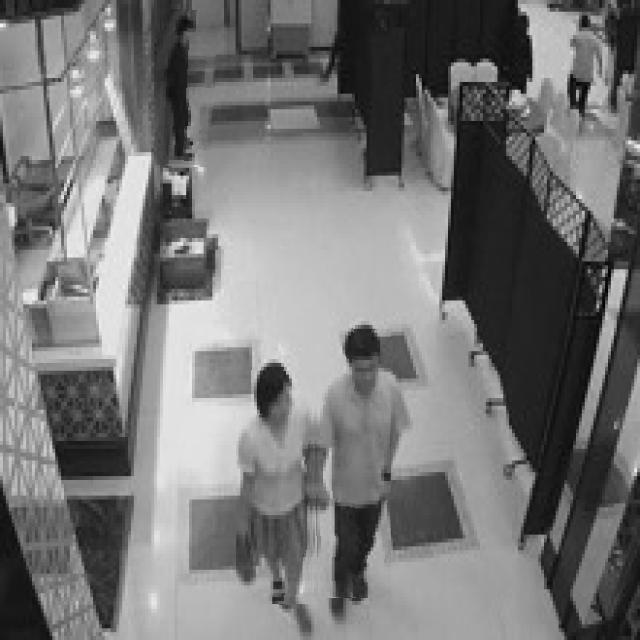Normal: (311, 288, 391, 598), (236, 302, 318, 604), (155, 8, 216, 167)
